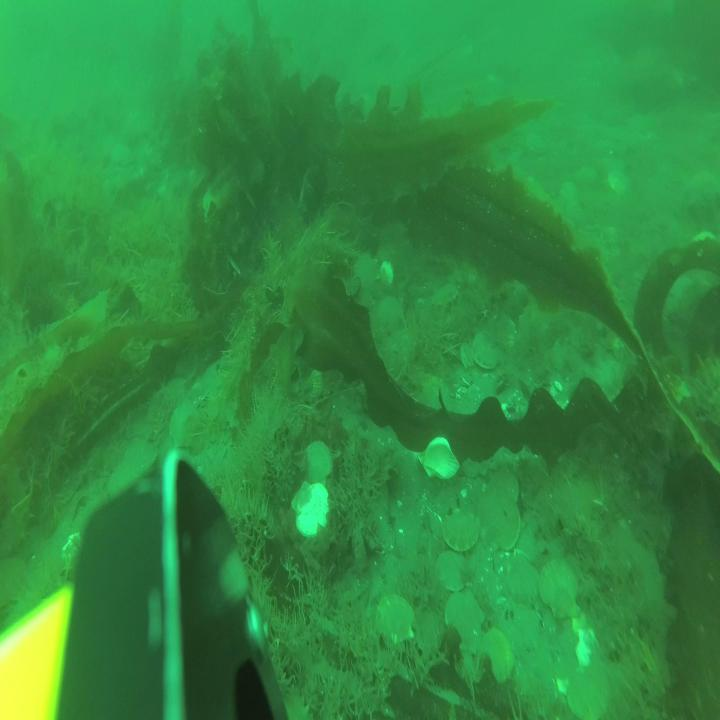scallop: (442, 588, 486, 656), (536, 555, 580, 620), (567, 662, 612, 720), (290, 479, 332, 540), (374, 591, 415, 649), (415, 434, 464, 482), (481, 625, 514, 686), (487, 498, 522, 553), (441, 507, 480, 553), (434, 548, 470, 593), (304, 436, 334, 489), (169, 403, 200, 449), (472, 329, 503, 371), (491, 469, 521, 510), (378, 291, 404, 329), (430, 284, 461, 310), (607, 164, 630, 196), (306, 367, 325, 401), (457, 340, 475, 371)
